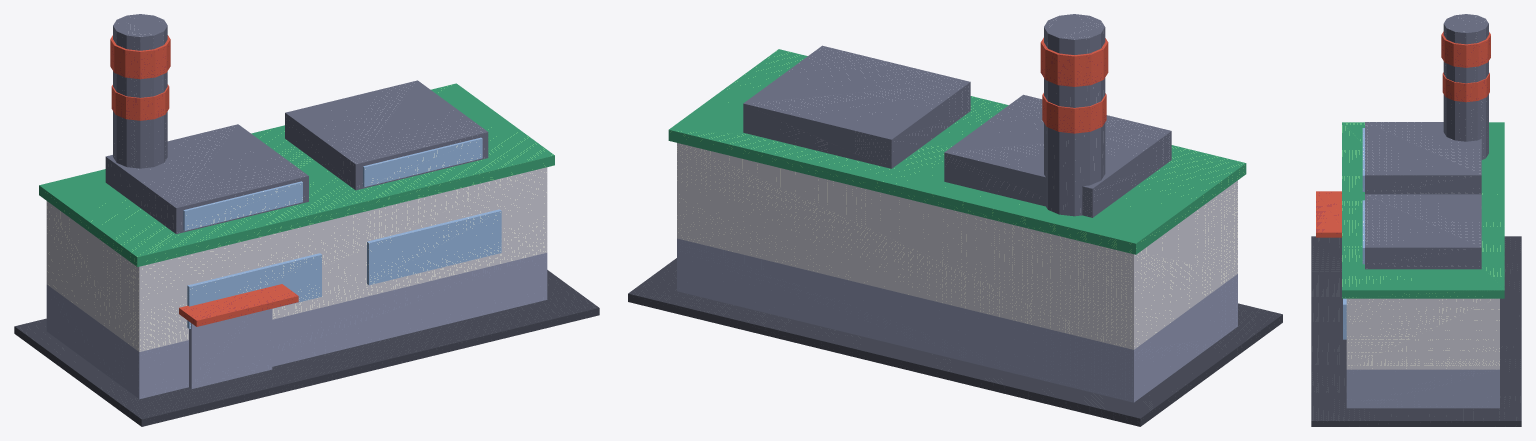
The model's file is ind-2x1-l1.glb.
The picture shows the model from 3 angles, left to right: view 1: azimuth 30°, elevation 25°; view 2: azimuth 150°, elevation 25°; view 3: azimuth 270°, elevation 25°; orthographic projection. The views are drawn at different scales.
Visible parts, largest first — view 1: ind-2x1-l1; view 2: ind-2x1-l1; view 3: ind-2x1-l1.
Boxes of the visible parts, x1,y1,x2,y2 form: ind-2x1-l1: (14,14,599,426); ind-2x1-l1: (628,14,1282,426); ind-2x1-l1: (1311,14,1521,426).
Size of the model in its own units: 3.86 by 2.5 by 1.86.
1 material, 1 textured.
